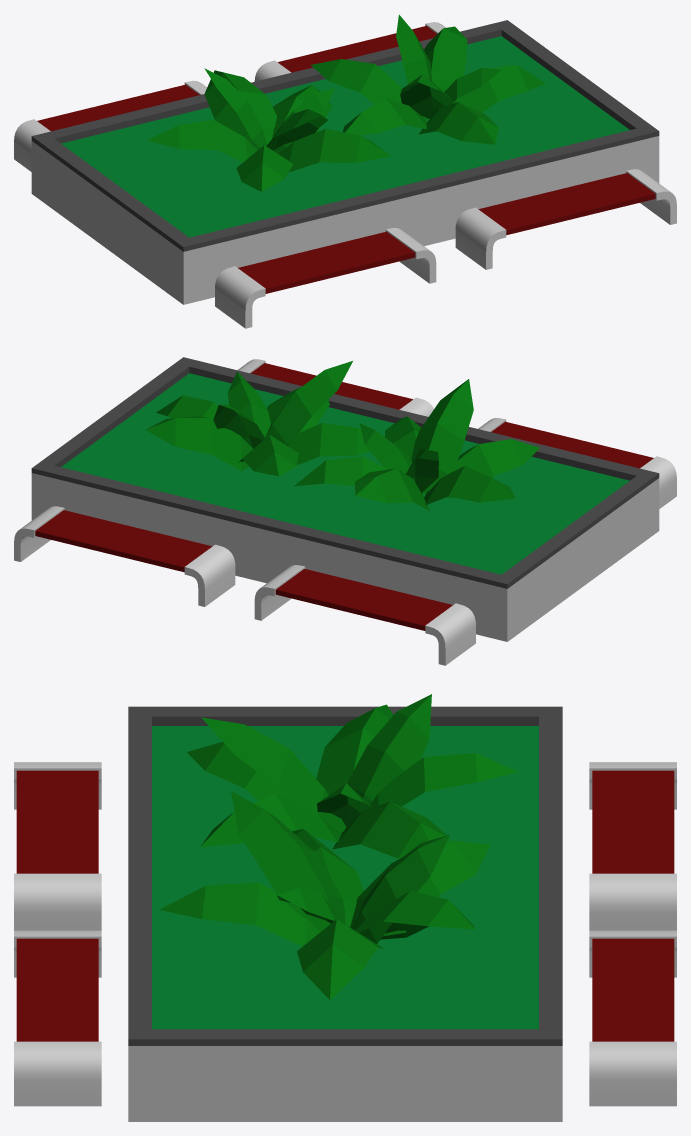
The model's file is Garden-01.fbx.
3 renders of one model, top to bottom at view 1: azimuth 30°, elevation 25°; view 2: azimuth 150°, elevation 25°; view 3: azimuth 270°, elevation 25°, orthographic. The views are drawn at different scales.
Parts seen in each view (by area): view 1: Garden-01; view 2: Garden-01; view 3: Garden-01.
Part boxes in pixels (x1=…): Garden-01: x1=14, y1=14, x2=676, y2=328; Garden-01: x1=14, y1=357, x2=676, y2=665; Garden-01: x1=14, y1=694, x2=676, y2=1121.
Size of what is drawn, in the model's own units: 6.72 by 1.76 by 5.66.
